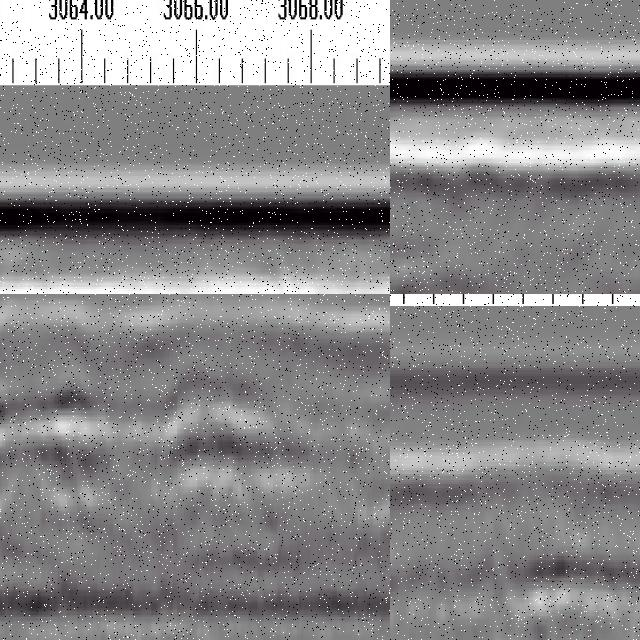loose: (1, 363, 304, 502), (391, 249, 530, 295)
